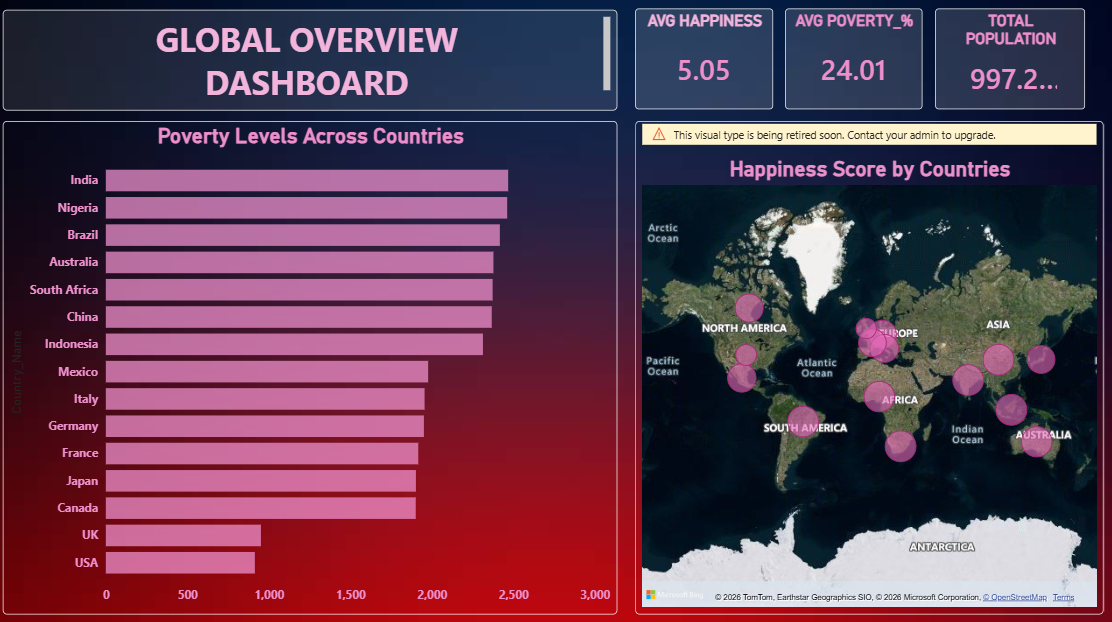

The page's visual inventory and layout, read from the dashboard file:
{"tool":"powerbi","page":{"name":"Global_Overview","canvas":[1280,720],"ordinal":0},"visuals":[{"type":"map","title":"Happiness Score by Countries","fields":{"Category":["Social_economic_indicators.Country_Name"],"Size":["Sum(Social_economic_indicators.Happiness Score)"]},"box":[732.8,142.7,535.2,564],"z":0},{"type":"clusteredBarChart","title":"Poverty Levels Across Countries","fields":{"Category":["Social_economic_indicators.Country_Name"],"Y":["Sum(Social_economic_indicators.Poverty_%)"]},"box":[9.6,142.7,702.6,564],"z":1000},{"type":"textbox","box":[9.6,15.1,702.6,115.3],"z":2000},{"type":"cardVisual","title":"AVG HAPPINESS","fields":{"Data":["Social_economic_indicators.Avg_Happiness"]},"box":[732.8,13.7,157.8,115.3],"z":3000},{"type":"cardVisual","title":"AVG POVERTY_%","fields":{"Data":["Social_economic_indicators.Avg_Poverty"]},"box":[904.3,13.7,156.4,115.3],"z":4000},{"type":"cardVisual","title":"TOTAL POPULATION","fields":{"Data":["Social_economic_indicators.Total_Population"]},"box":[1075.8,13.7,171.5,115.3],"z":5000}]}

Visuals, with their boxes in screenshot pixels (x1, y1, x2, y2), scaled from the page's 1280x720 canvas onto the 1112x622 screenshot:
"Happiness Score by Countries" map: bbox(637, 123, 1102, 611)
"Poverty Levels Across Countries" clusteredBarChart: bbox(8, 123, 619, 611)
textbox: bbox(8, 13, 619, 113)
"AVG HAPPINESS" cardVisual: bbox(637, 12, 774, 111)
"AVG POVERTY_%" cardVisual: bbox(786, 12, 921, 111)
"TOTAL POPULATION" cardVisual: bbox(935, 12, 1084, 111)
